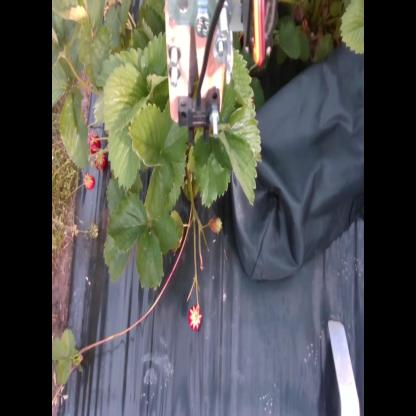ripe: (86, 127, 104, 155), (95, 147, 110, 176), (188, 306, 204, 333), (83, 172, 97, 194)
